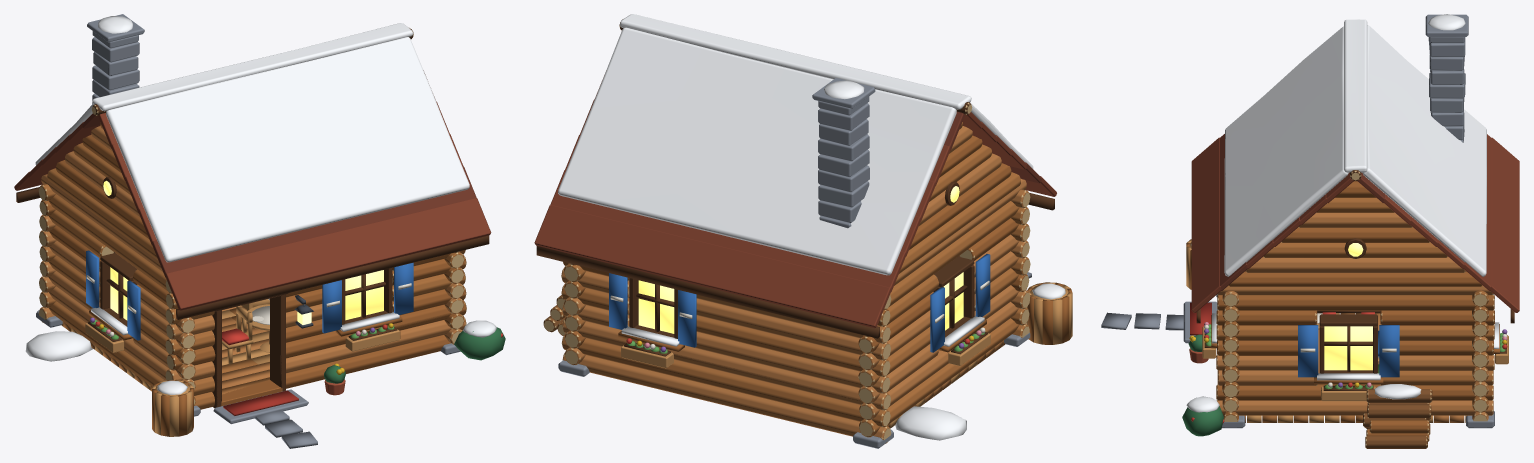
Rendered from house_1.glb.
The picture shows the model from 3 angles, left to right: view 1: azimuth 30°, elevation 25°; view 2: azimuth 150°, elevation 25°; view 3: azimuth 270°, elevation 25°; orthographic projection. The views are drawn at different scales.
Visible parts, largest first — view 1: roof, walls, exterior, floor, interior, walls_low; view 2: roof, walls, exterior, floor; view 3: roof, walls, exterior, floor.
Boxes of the visible parts, x1,y1,x2,y2 form: roof: [14, 14, 491, 319]; walls: [36, 174, 466, 416]; exterior: [25, 320, 505, 448]; floor: [61, 306, 308, 424]; interior: [114, 252, 269, 364]; walls_low: [39, 282, 465, 407]; roof: [534, 14, 1056, 338]; walls: [558, 179, 1030, 448]; exterior: [543, 272, 1072, 440]; floor: [887, 340, 1005, 428]; roof: [1191, 14, 1519, 323]; walls: [1202, 180, 1508, 428]; exterior: [1101, 239, 1432, 448]; floor: [1183, 301, 1466, 422].
Bounding box in the file's own units: 6.26 × 4.81 × 6.03.
